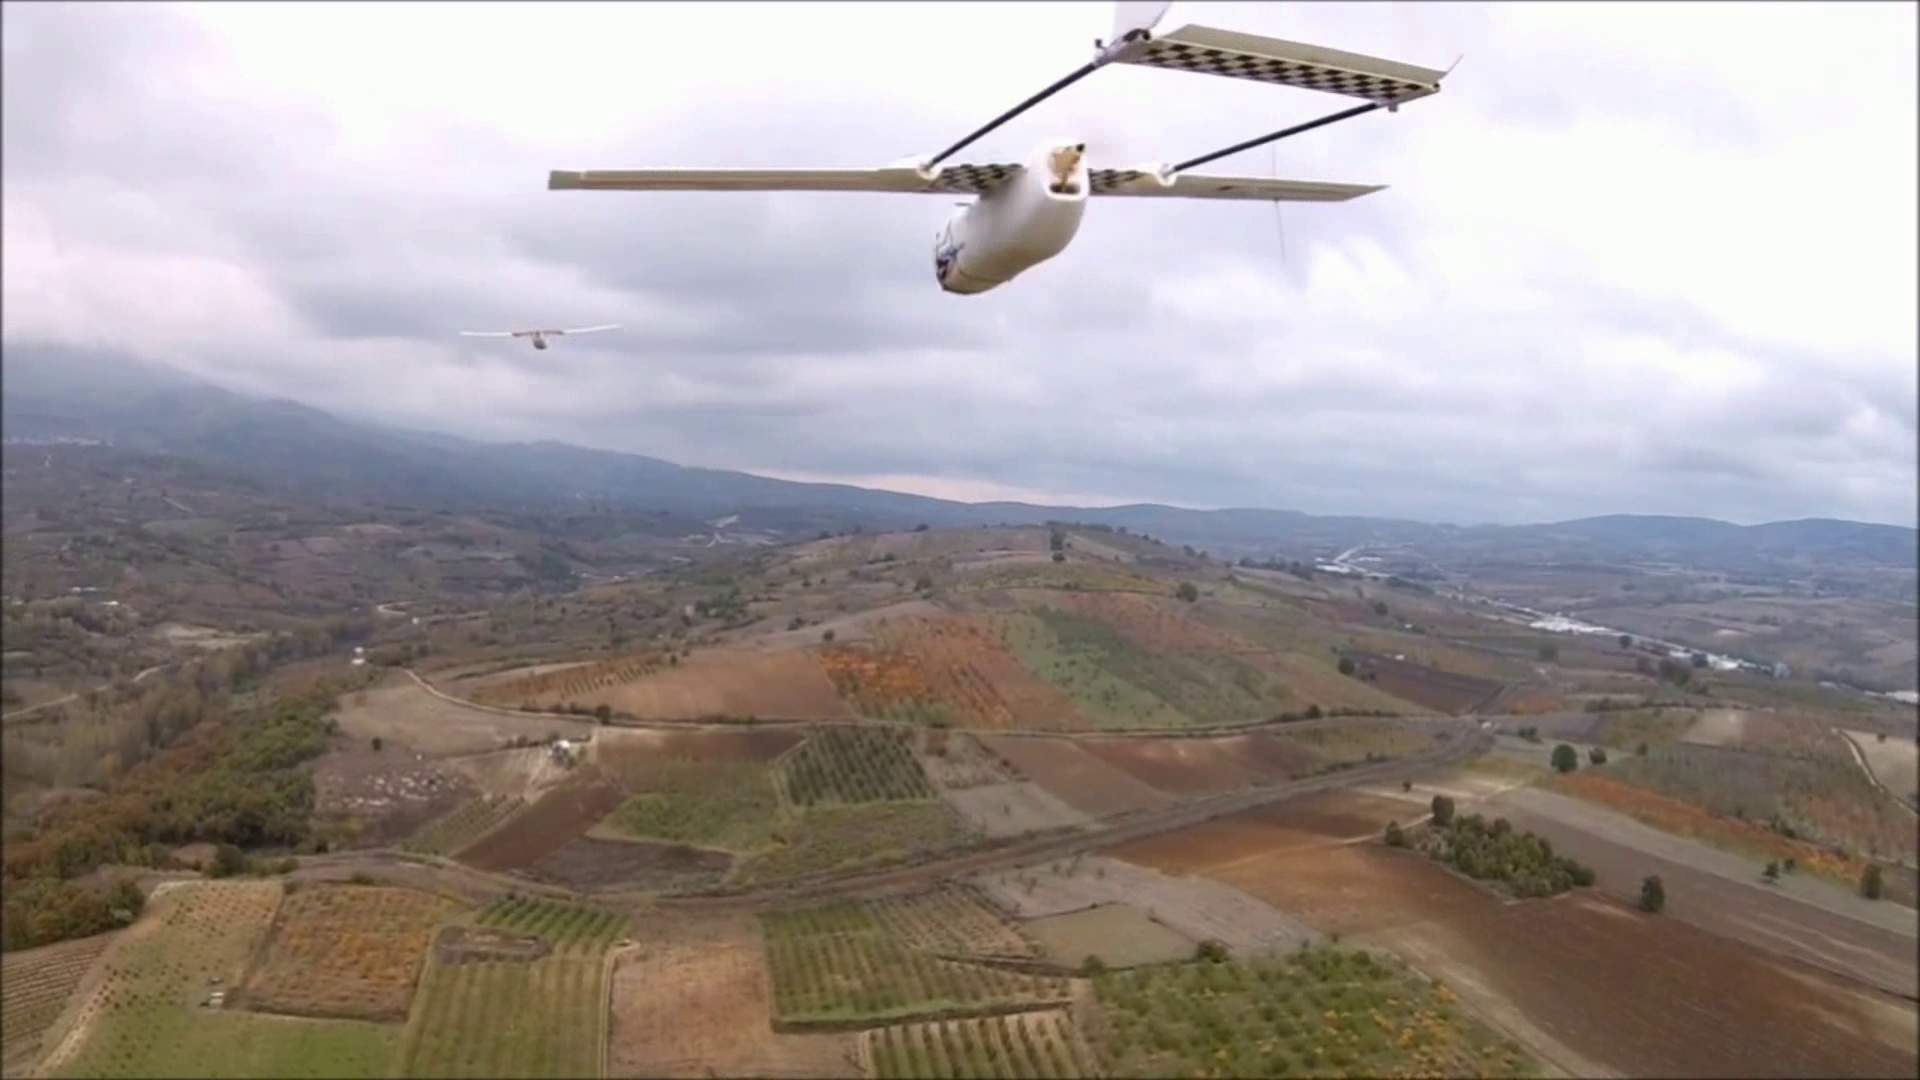airplane: (541, 8, 1459, 294)
